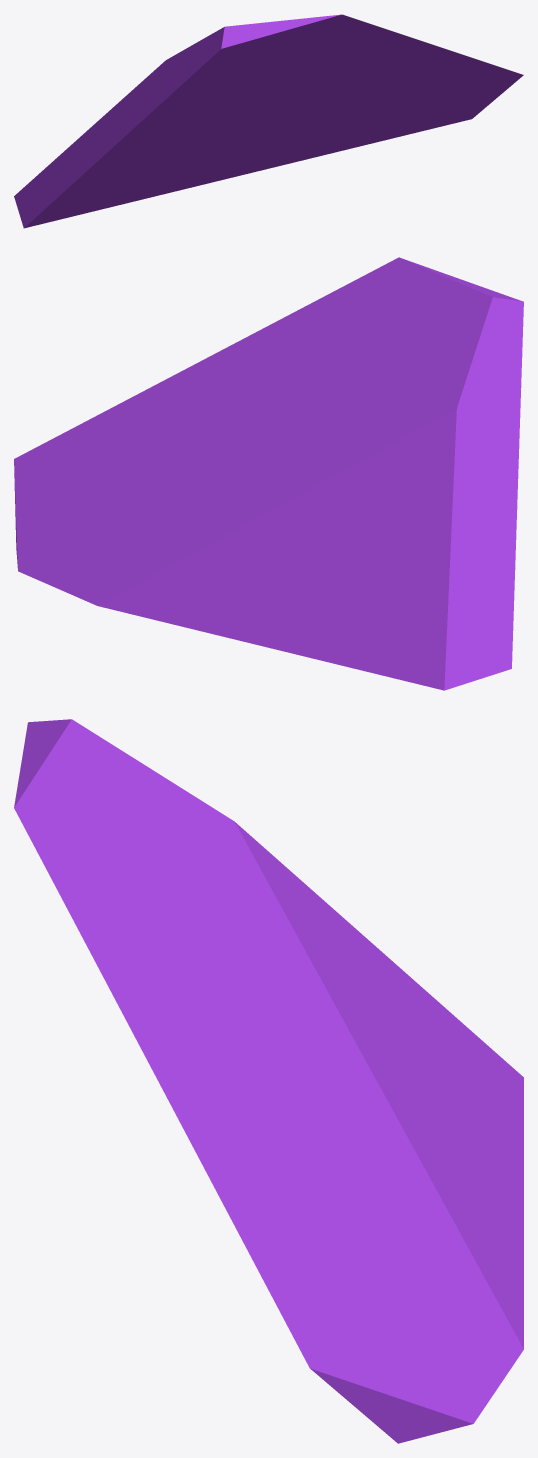
The model's file is Window_123_2_chunks.fbx.
3 views of the same model, one above another, from view 1: azimuth 30°, elevation 25°; view 2: azimuth 150°, elevation 25°; view 3: azimuth 270°, elevation 25° (orthographic). The views are drawn at different scales.
Visible parts, largest first — view 1: Window_123_2_1, Window_123_2_0, Window_123_2_3, Window_123_2_2; view 2: Window_123_2_1, Window_123_2_3, Window_123_2_2, Window_123_2_0; view 3: Window_123_2_3, Window_123_2_0, Window_123_2_2, Window_123_2_1.
Part boxes in pixels (box(x1,y1,x2,y2)): Window_123_2_1: box(14, 49, 282, 228); Window_123_2_0: box(257, 46, 523, 158); Window_123_2_3: box(186, 14, 437, 110); Window_123_2_2: box(216, 148, 310, 181); Window_123_2_1: box(306, 341, 522, 690); Window_123_2_3: box(196, 257, 523, 472); Window_123_2_2: box(18, 459, 323, 660); Window_123_2_0: box(14, 363, 247, 567); Window_123_2_3: box(14, 719, 327, 1102); Window_123_2_0: box(170, 1093, 467, 1443); Window_123_2_2: box(309, 1032, 523, 1425); Window_123_2_1: box(178, 786, 523, 1171).
Size of the model in its own units: 783 by 382 by 410.
